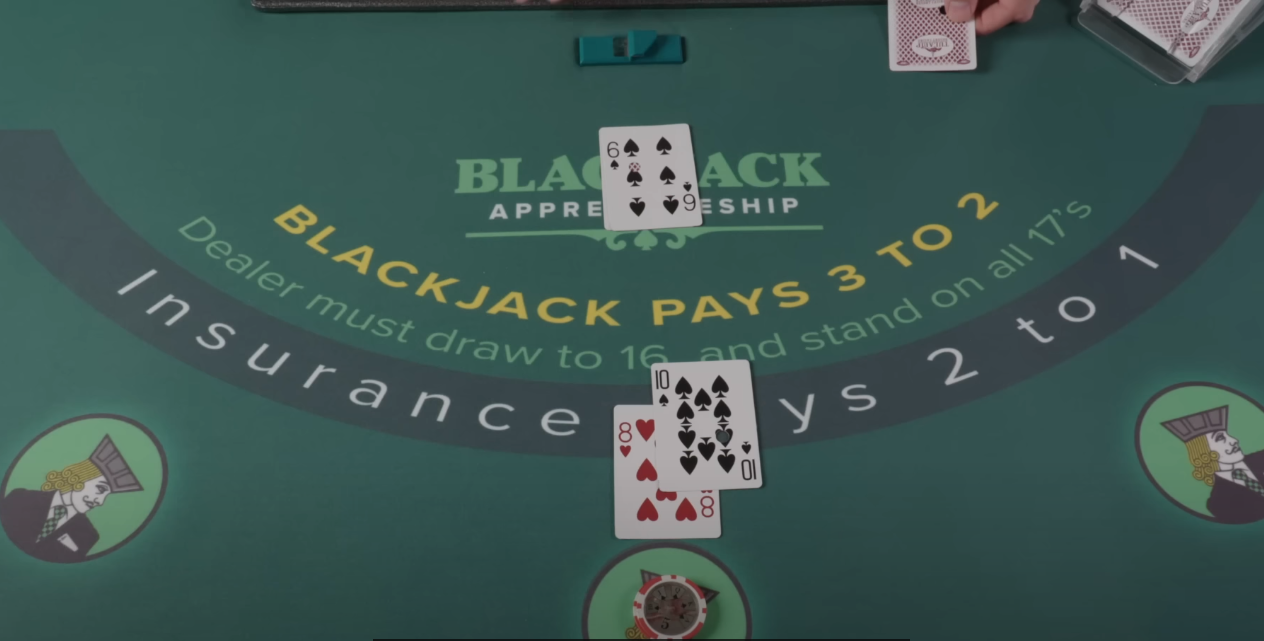10S: (651, 359, 763, 492)
6S: (599, 123, 703, 232)
8H: (613, 403, 723, 540)
